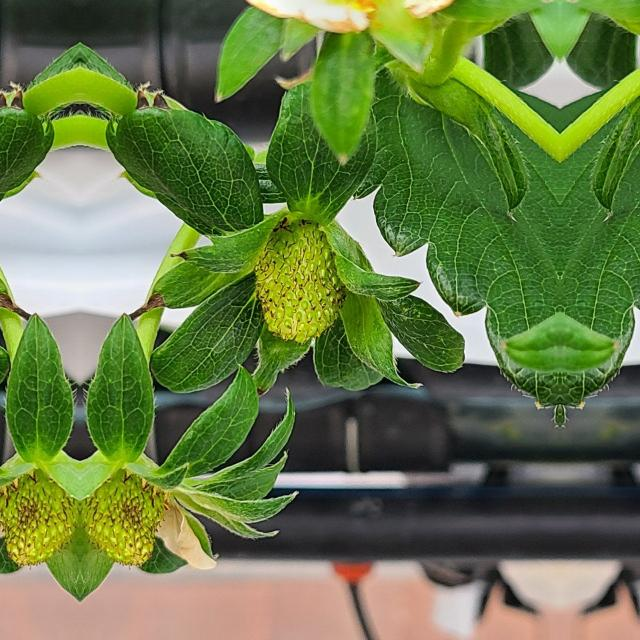Health_25: (256, 220, 346, 342), (80, 459, 170, 568), (0, 459, 80, 568)
